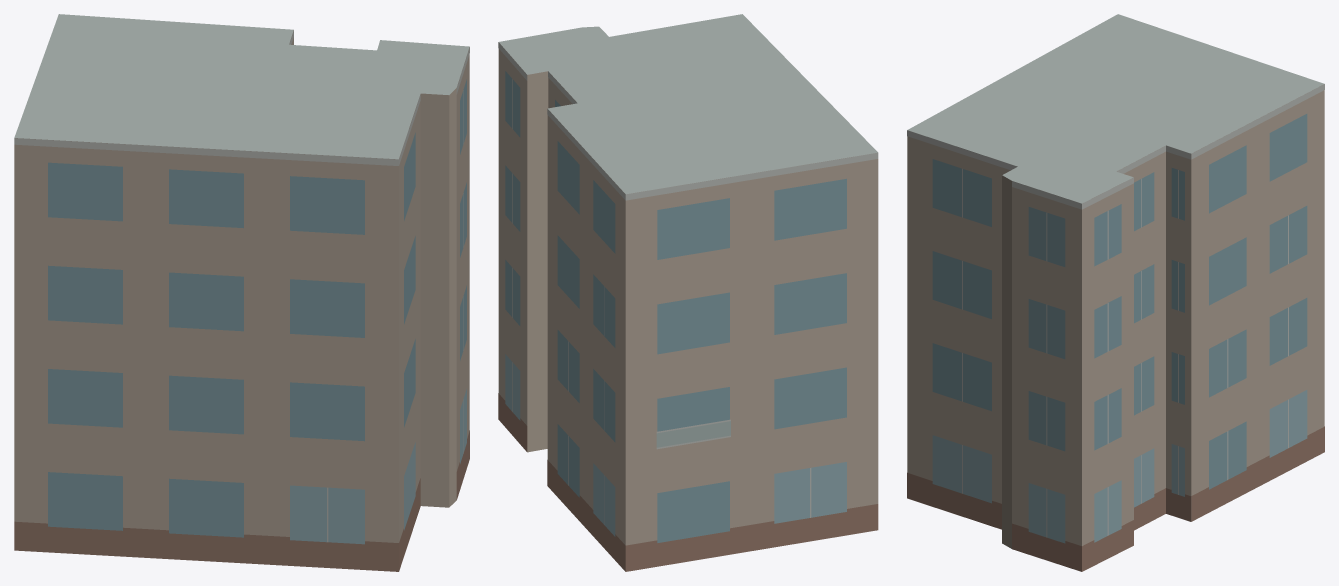
The model's file is survey-upis-32498158.glb.
3 views of the same model, side by side, from view 1: azimuth 30°, elevation 25°; view 2: azimuth 150°, elevation 25°; view 3: azimuth 270°, elevation 25° (orthographic). The views are drawn at different scales.
Parts seen in each view (by area): view 1: survey-upis-32498158.tmp; view 2: survey-upis-32498158.tmp; view 3: survey-upis-32498158.tmp.
Boxes of the visible parts, x1=… form: survey-upis-32498158.tmp: x1=14, y1=14, x2=469, y2=571; survey-upis-32498158.tmp: x1=498, y1=14, x2=878, y2=571; survey-upis-32498158.tmp: x1=907, y1=14, x2=1324, y2=571.
Size of the model in its own units: 16.35 by 14.8 by 15.22.
